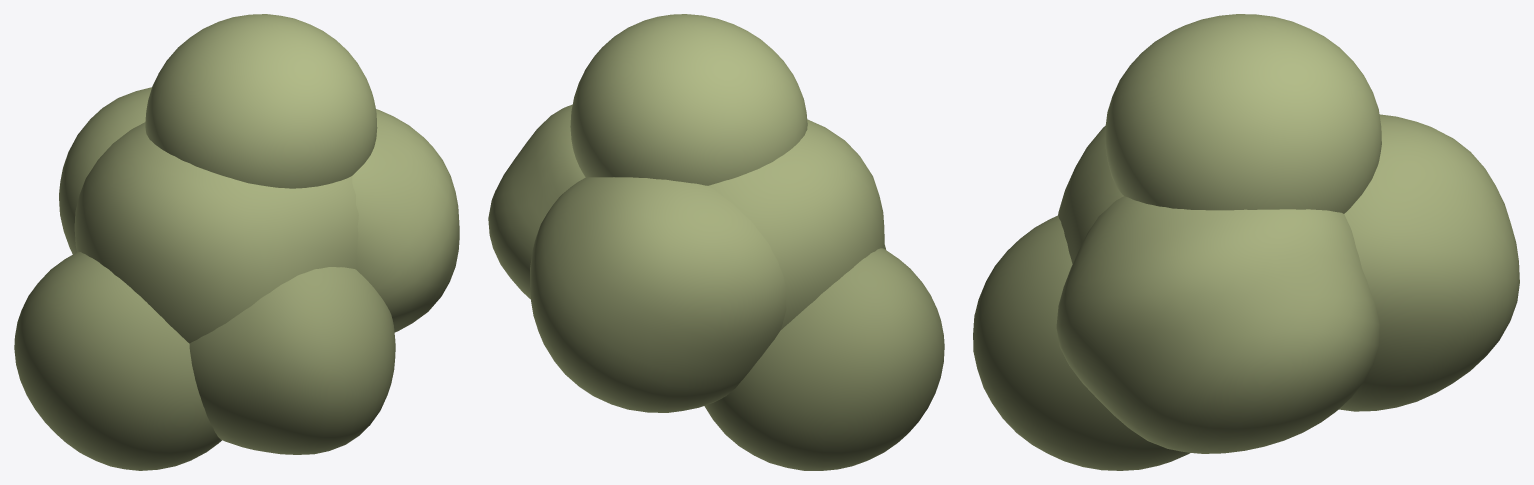
Rendered from bush_a.glb.
The picture shows the model from 3 angles, left to right: view 1: azimuth 30°, elevation 25°; view 2: azimuth 150°, elevation 25°; view 3: azimuth 270°, elevation 25°; orthographic projection. The views are drawn at different scales.
Visible parts, largest first — view 1: crown; view 2: crown; view 3: crown.
Part boxes in pixels (x1,y1,x2,y2): crown: [14, 14, 459, 470]; crown: [488, 14, 944, 470]; crown: [973, 14, 1519, 470].
Size of the model in its own units: 2.39 by 2.19 by 2.31.
